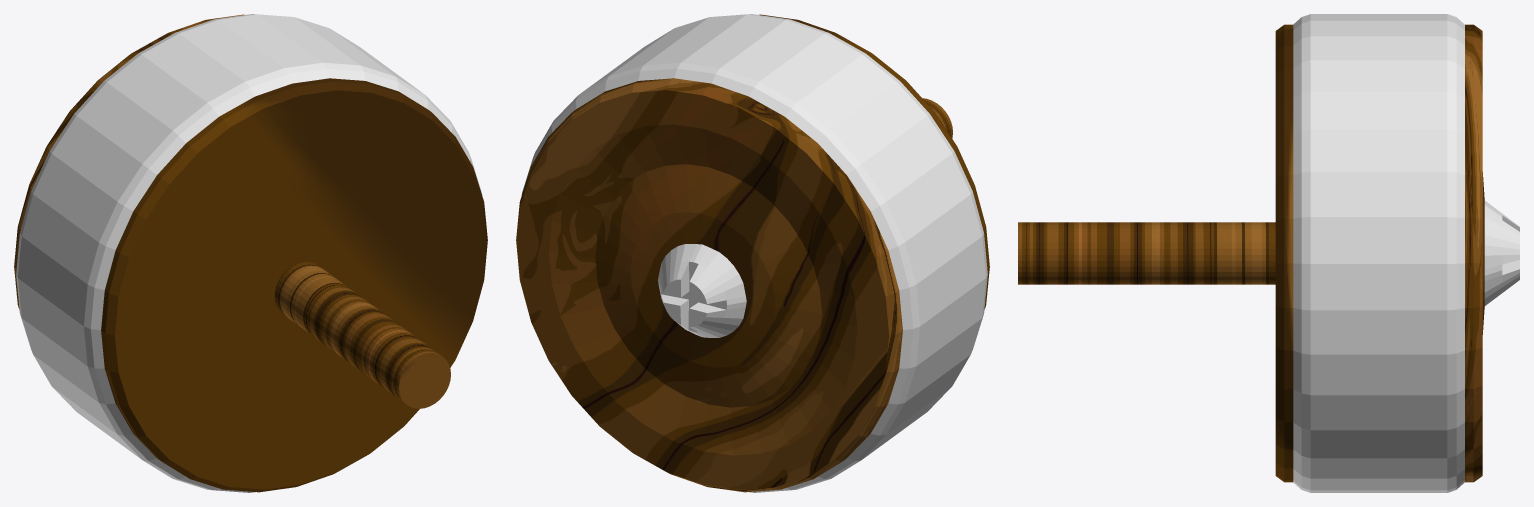
The model's file is Roue4.fbx.
The picture shows the model from 3 angles, left to right: view 1: azimuth 30°, elevation 25°; view 2: azimuth 150°, elevation 25°; view 3: azimuth 270°, elevation 25°; orthographic projection. The views are drawn at different scales.
Visible parts, largest first — view 1: Roue, Pneu, Avant; view 2: Avant, Pneu, Visse, Roue; view 3: Pneu, Roue, Avant, Visse.
Part boxes in pixels (x1,y1,x2,y2): Roue: (101, 78, 487, 492); Pneu: (16, 14, 482, 492); Avant: (14, 14, 244, 309); Avant: (516, 78, 902, 492); Pneu: (521, 14, 987, 492); Visse: (658, 244, 746, 337); Roue: (759, 14, 989, 309); Pneu: (1293, 14, 1464, 492); Roue: (1018, 24, 1293, 482); Avant: (1465, 24, 1484, 482); Visse: (1484, 200, 1519, 305).
Size of the model in its own units: 209 by 209 by 219.
